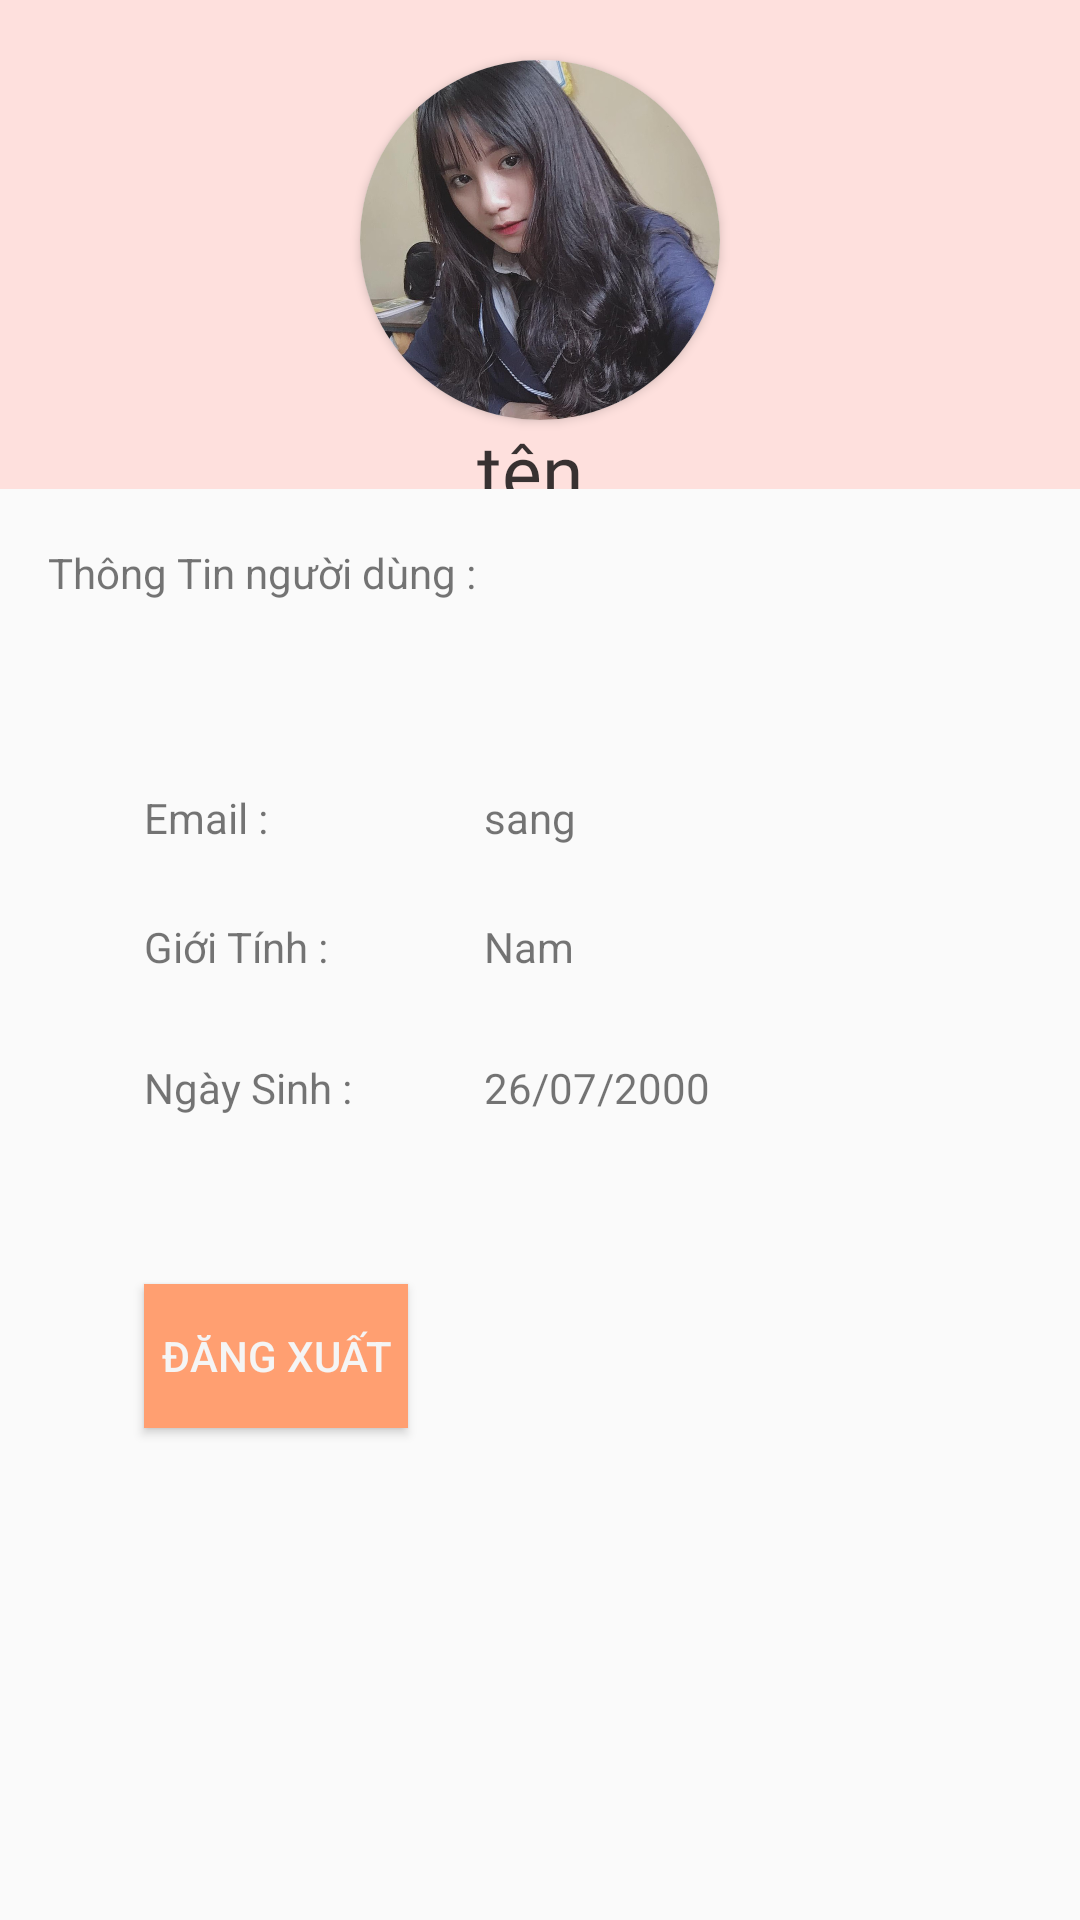

Screen size 1080px×1920px. Icon name, then its box in pixels as (x1, y1, x2, y2):
anh: (360, 60, 720, 420)
